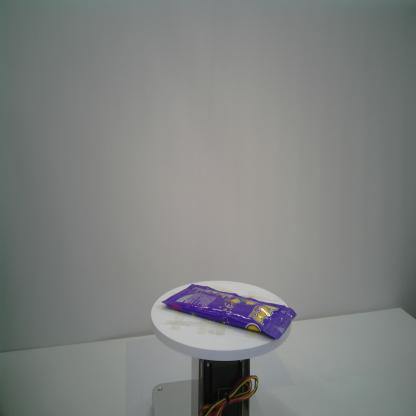Candy: (162, 283, 297, 341)
